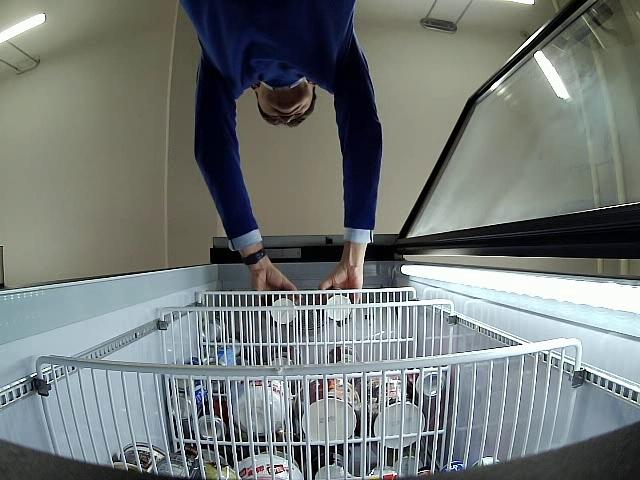00_hand: (320, 247, 365, 314), (250, 268, 300, 304)
02_shinRamen_S: (271, 291, 297, 327), (327, 288, 352, 322)
